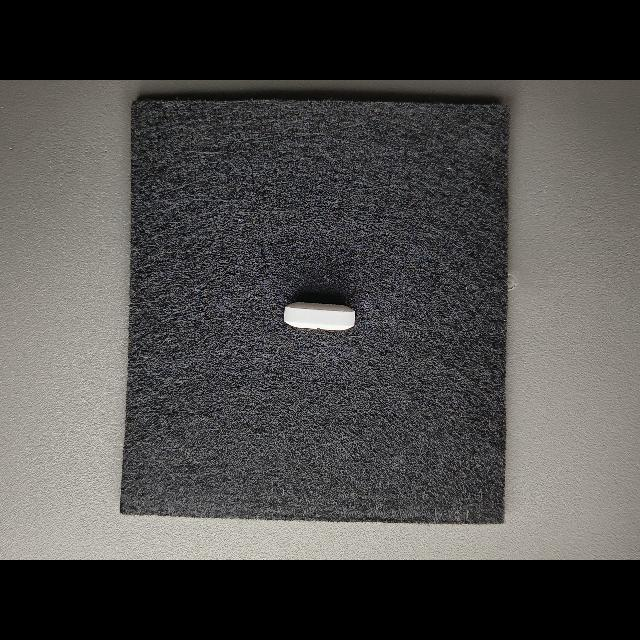Intact Pill: (284, 302, 355, 331)
